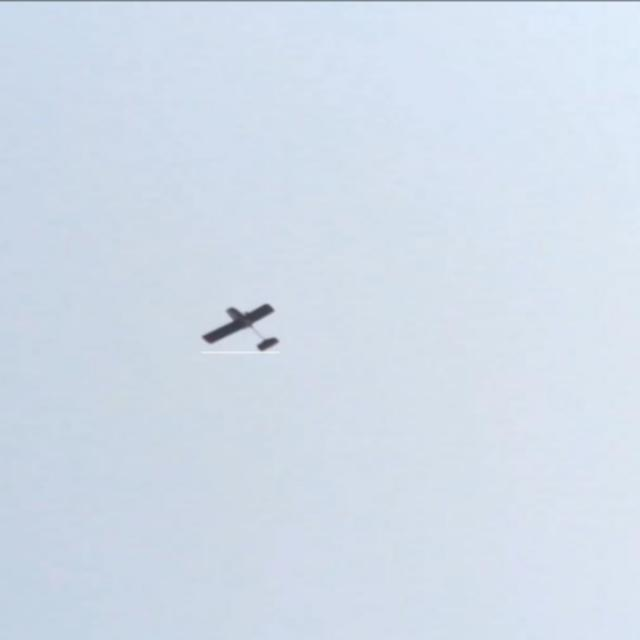plane: (202, 300, 282, 351)
